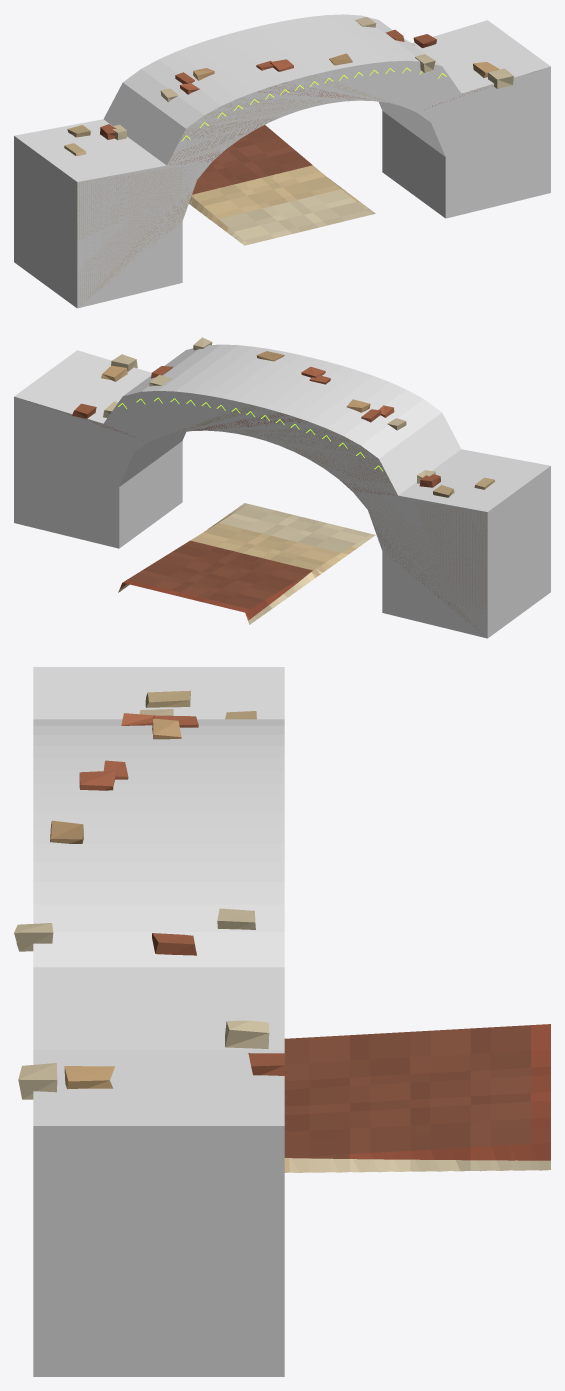
File: dam_the_eye.glb
3 views of the same model, one above another, from view 1: azimuth 30°, elevation 25°; view 2: azimuth 150°, elevation 25°; view 3: azimuth 270°, elevation 25° (orthographic). The views are drawn at different scales.
Visible parts, largest first — view 1: dam_the_eye-col, dam_the_eye, dam_the_eye_arch; view 2: dam_the_eye-col, dam_the_eye, dam_the_eye_arch; view 3: dam_the_eye-col, dam_the_eye, dam_the_eye_arch.
Part boxes in pixels (bbox=[...]): dam_the_eye-col: bbox=[14, 14, 550, 308]; dam_the_eye: bbox=[189, 125, 375, 245]; dam_the_eye_arch: bbox=[64, 17, 536, 305]; dam_the_eye-col: bbox=[14, 344, 550, 638]; dam_the_eye: bbox=[118, 503, 375, 624]; dam_the_eye_arch: bbox=[29, 337, 495, 634]; dam_the_eye-col: bbox=[33, 667, 284, 1376]; dam_the_eye: bbox=[284, 1024, 550, 1172]; dam_the_eye_arch: bbox=[14, 690, 285, 1099].
Size of the model in its own units: 108 by 38.96 by 53.41.
